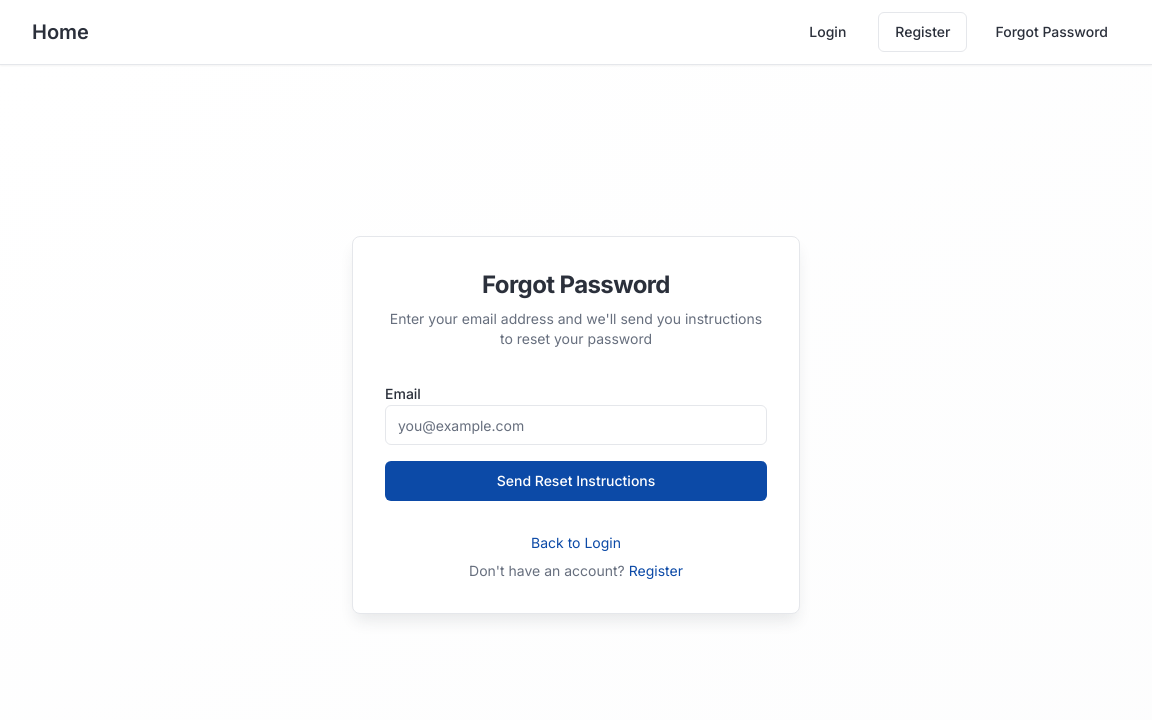
Scenario: ForgotPassword › should display success message after successful submission
Step 1. Type "test@example.com" into the field labelled "Email" → (576, 425), box [385,405,767,445]
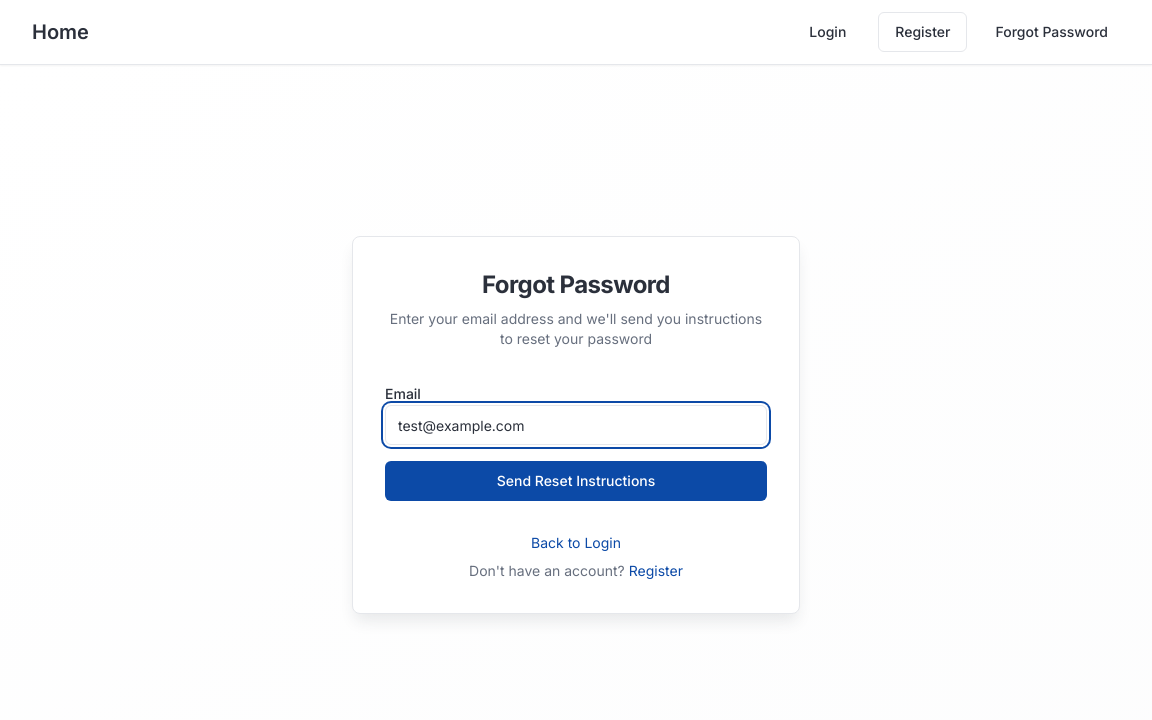
Step 2. Click the button "Send Reset Instructions" → (576, 481), box [385,461,767,501]
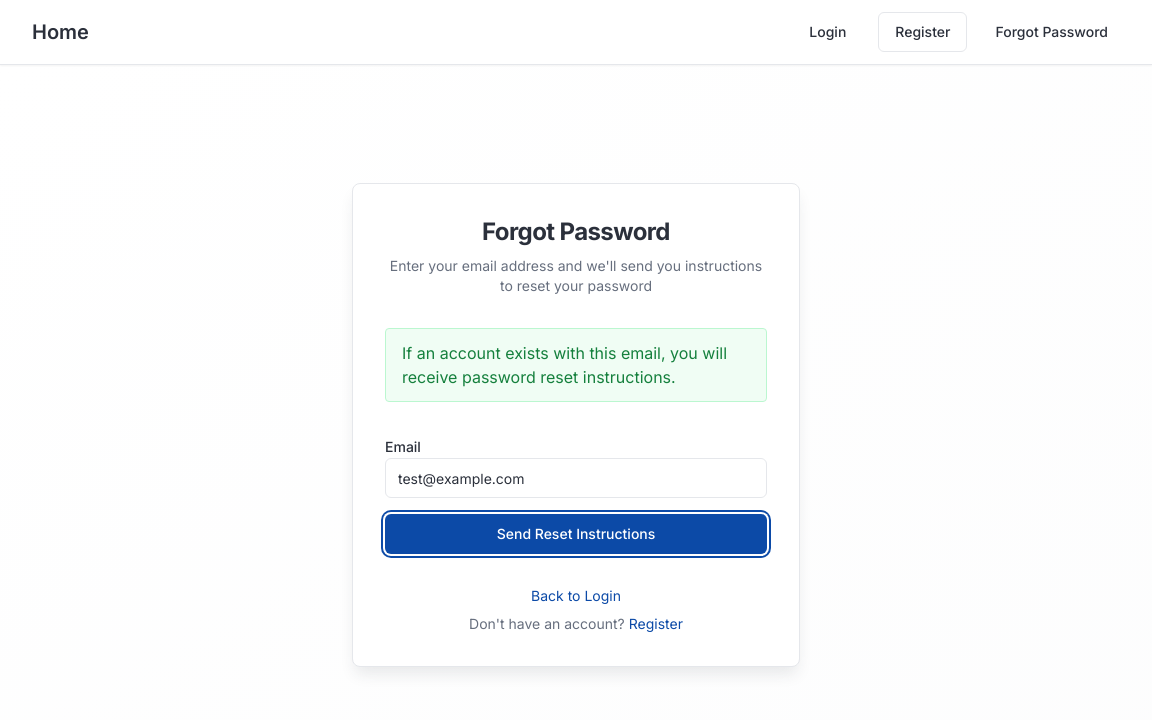
Check: the text "If an account exists" is shown, box [402,343,727,387]
